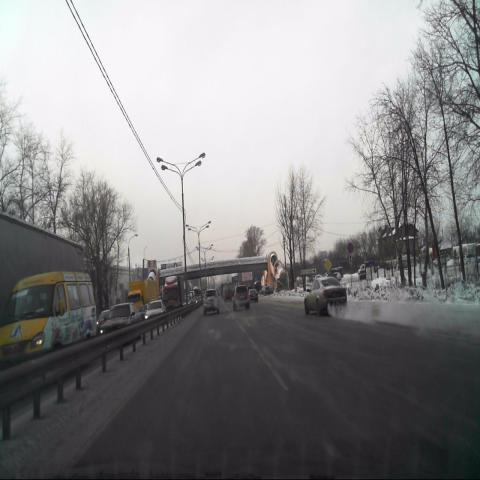2_1: (324, 257, 332, 271)
3_27: (347, 242, 353, 254)
